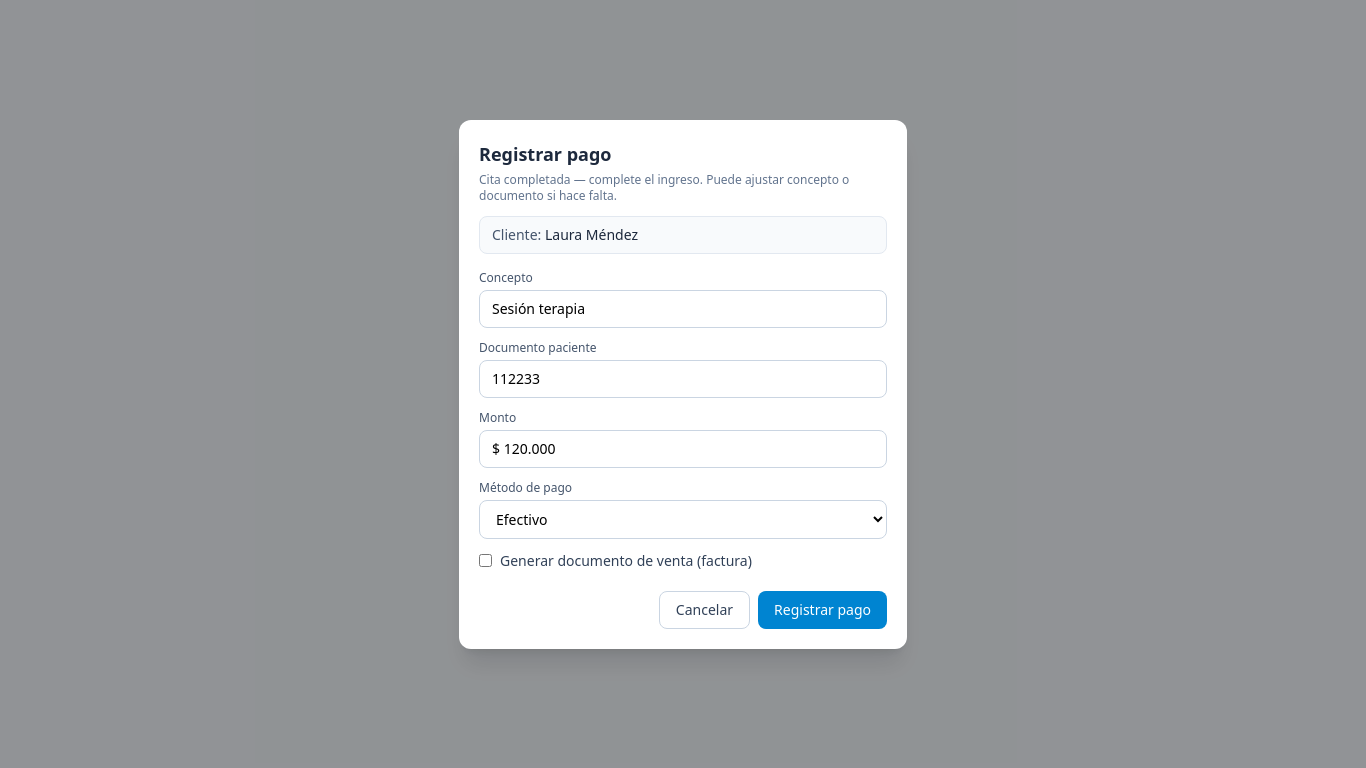
it: PaymentModal › muestra advertencia cuando el monto difiere del total esperado
Replace the text in the field with placeholder "$ 0" below "Monto" with "50000" at (683, 448), box [479,430,887,468]
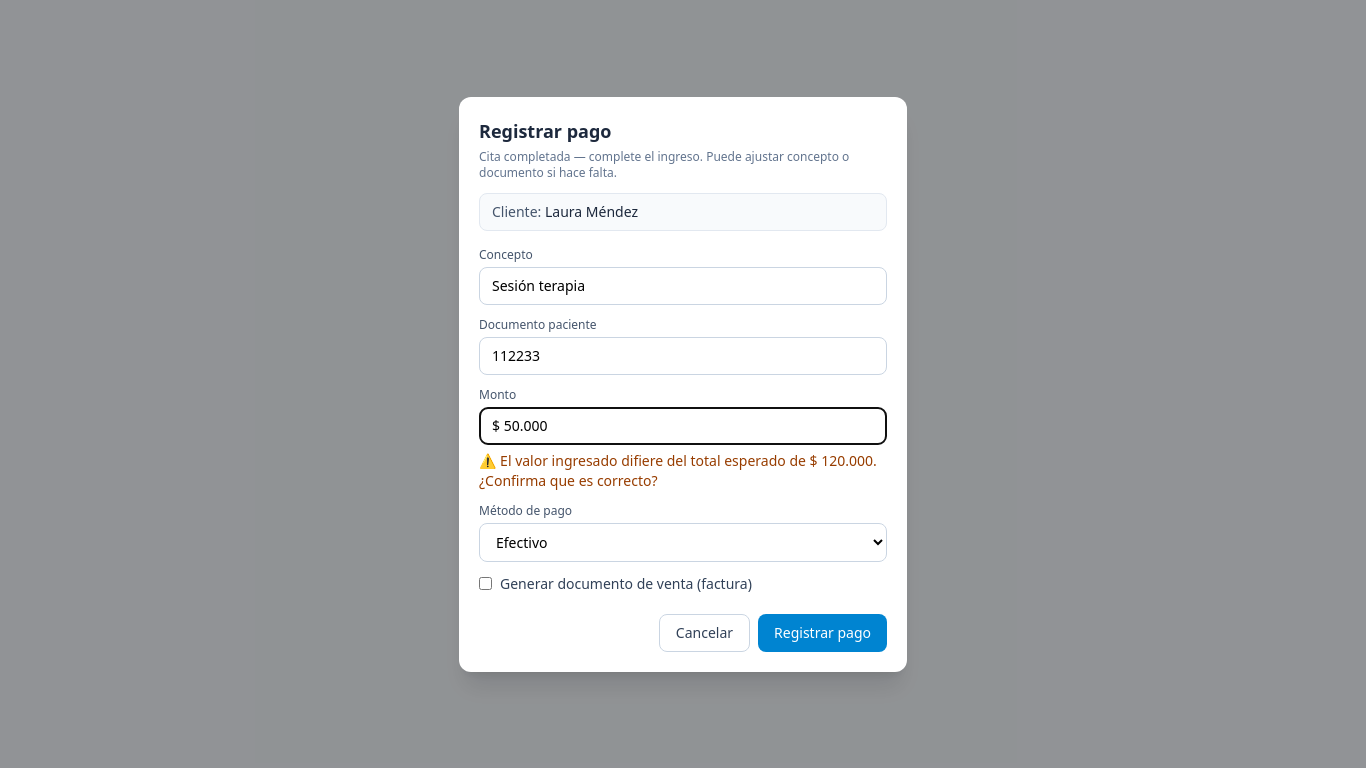
Result: the message shows "difiere del total esperado" at [479,450,810,470]
